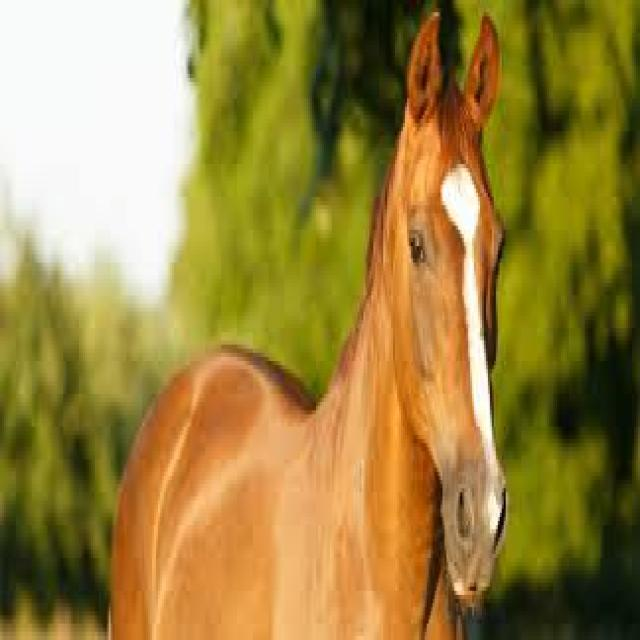Horse: (101, 0, 516, 640)
